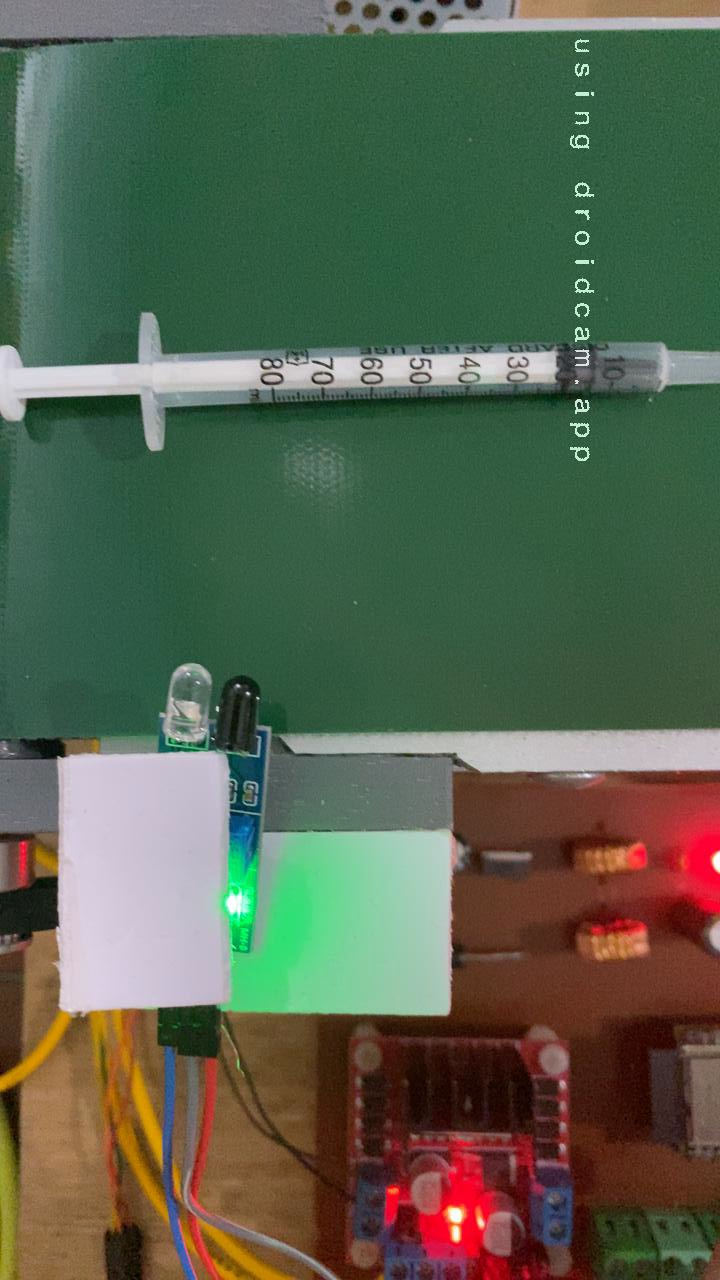syringe: (0, 306, 720, 460)
